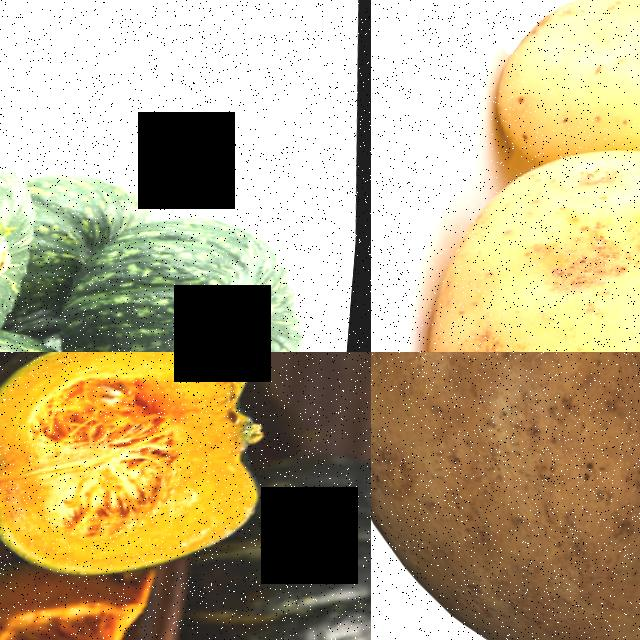potato: (371, 352, 640, 640), (413, 147, 640, 352), (477, 0, 640, 162)
pumpkin: (0, 352, 284, 582), (85, 206, 327, 352), (247, 439, 371, 640), (0, 565, 171, 640)
